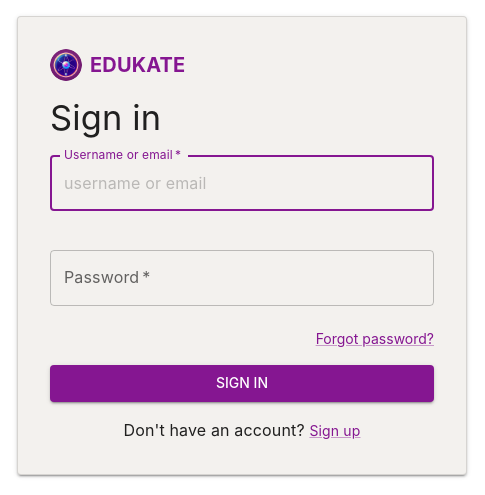
Test: SignInForm › shows password required error on blur when empty
The width and height of the screenshot is (485, 495).
Click the password field labelled "Password *" at coordinates (242, 278), box [50,250,434,306]
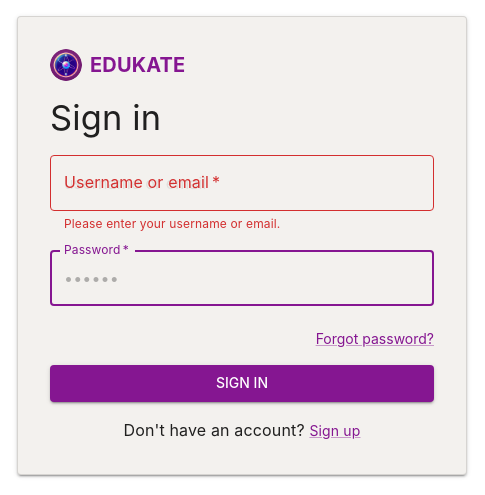
Press Tab
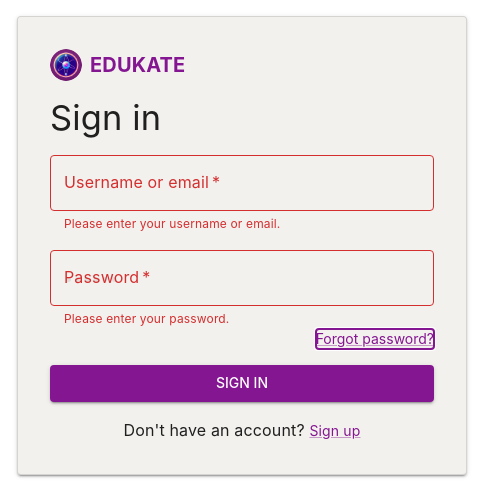
Check: the text "Please enter your password." is shown, box [64,311,230,326]
